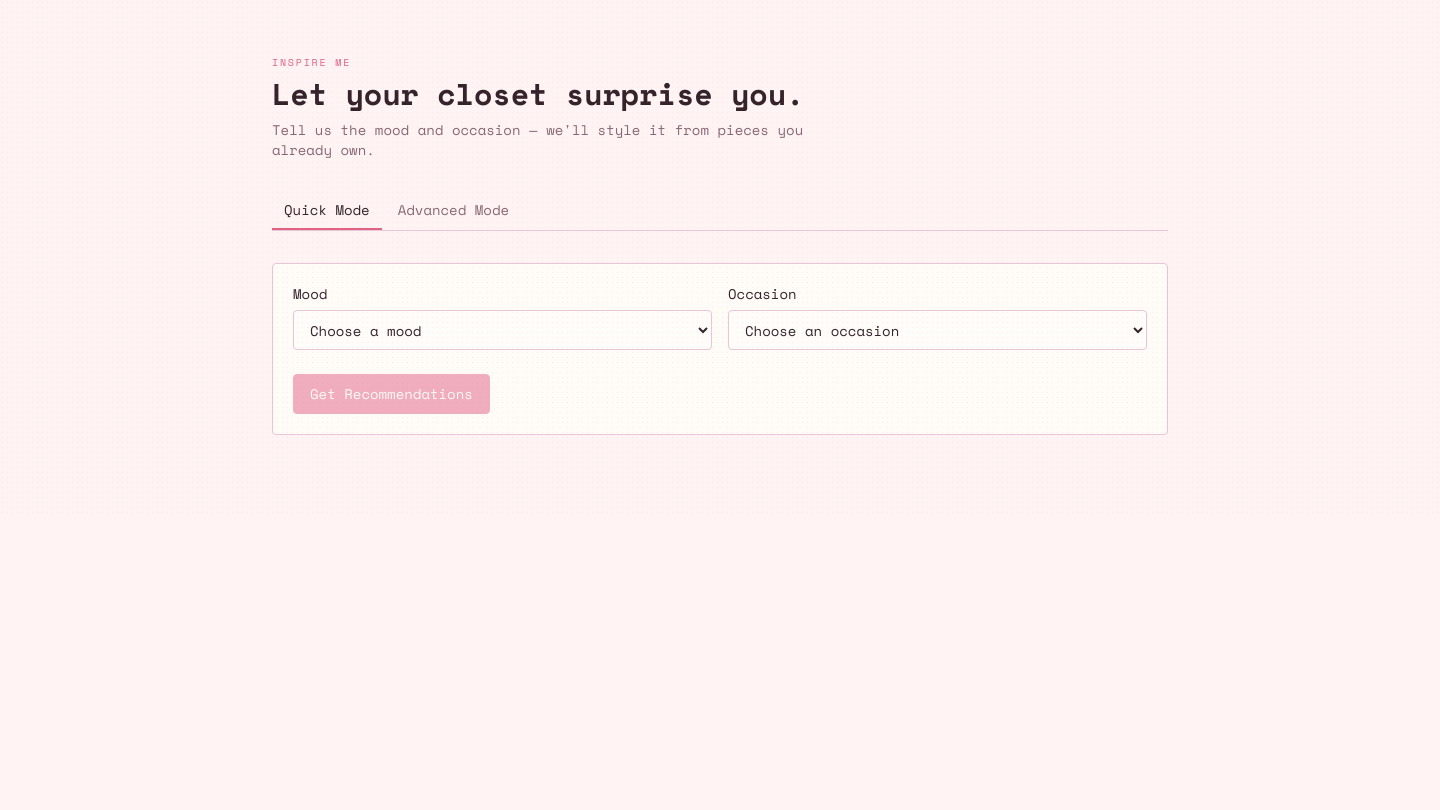
Test: InspireMePage › shows an empty state when no valid outfit can be generated
Select "Cozy" in the dropdown labelled "Mood" at (502, 330), box [293,310,712,350]
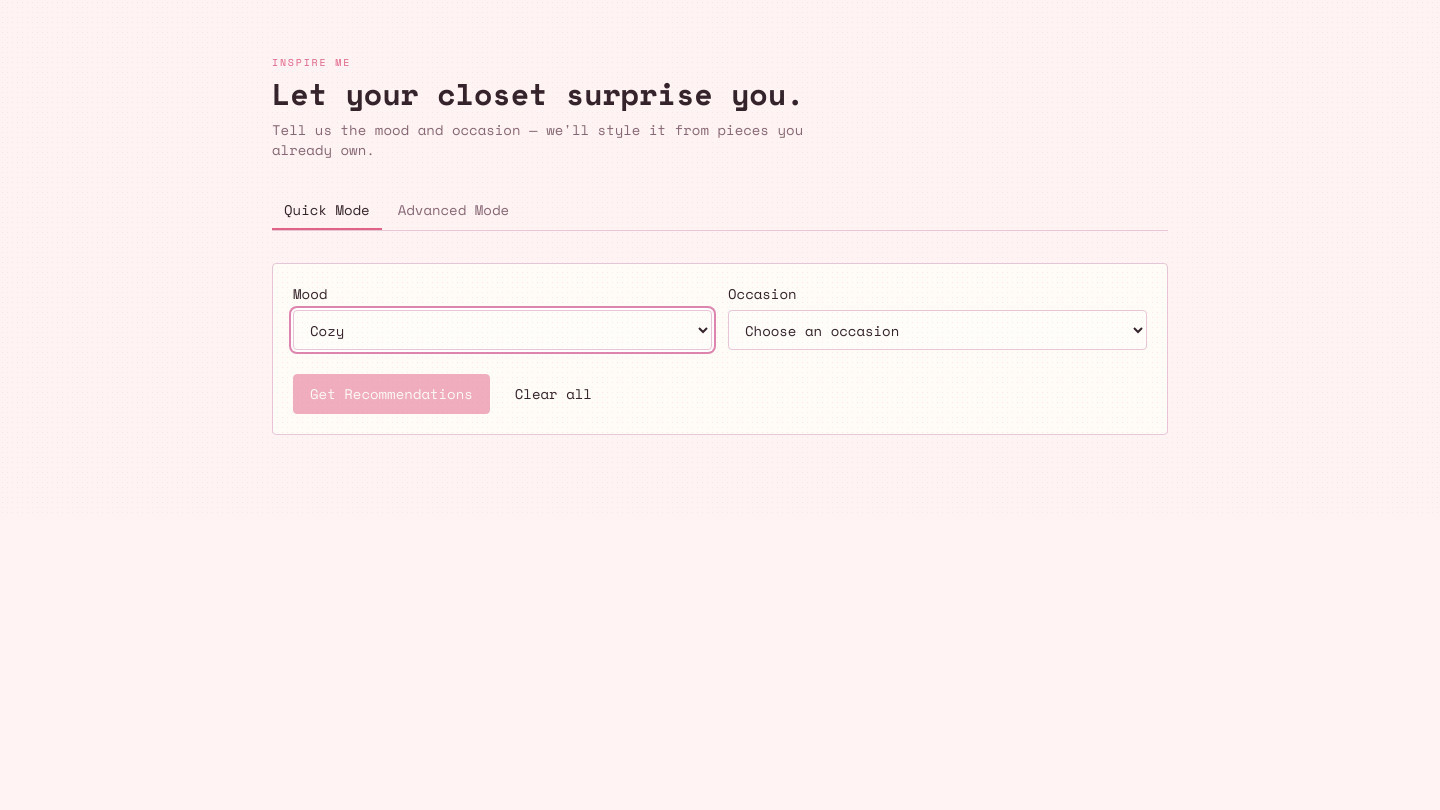
Select "Work" in the dropdown labelled "Occasion" at (938, 330), box [728,310,1147,350]
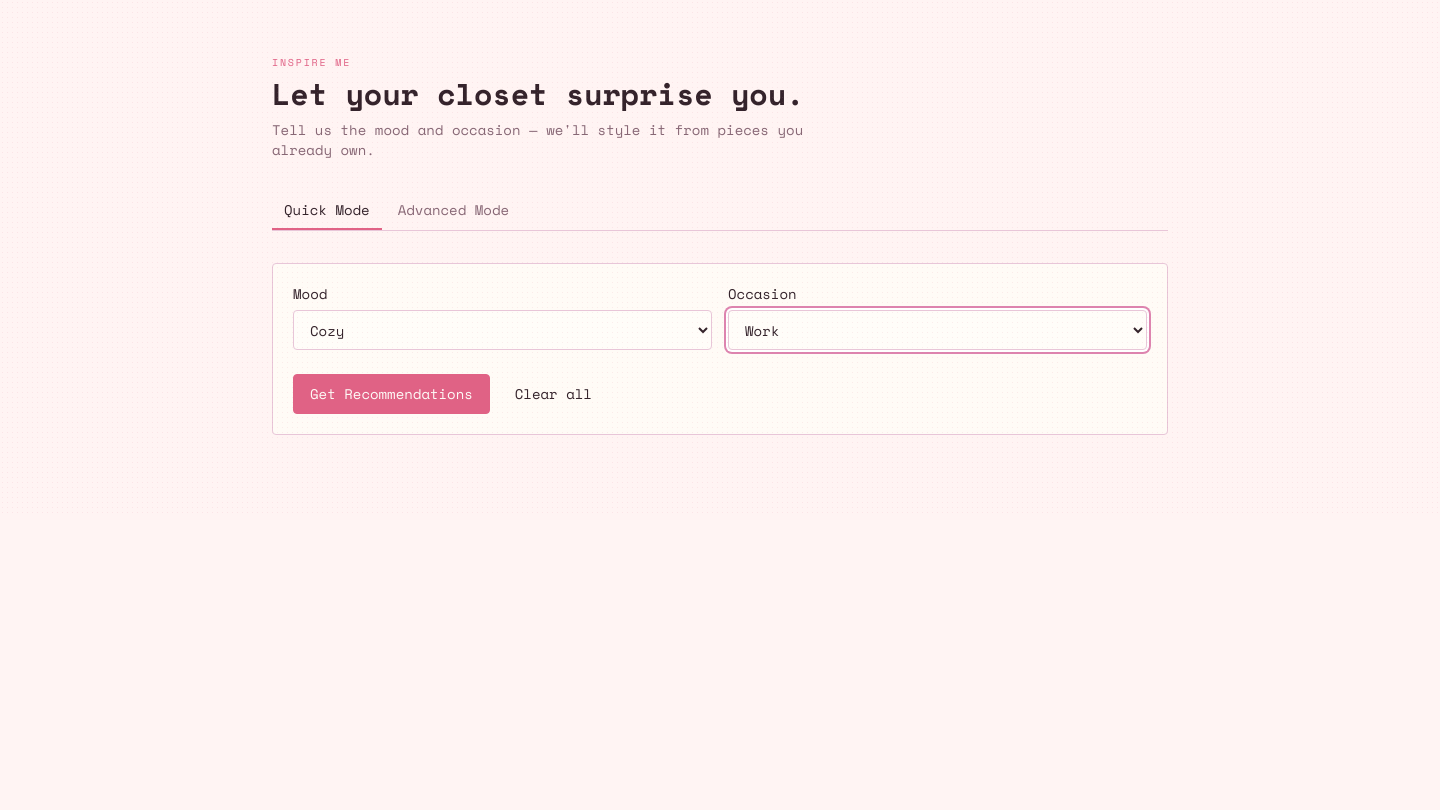
Click the button "Get Recommendations" at (391, 394), box [293,374,490,414]
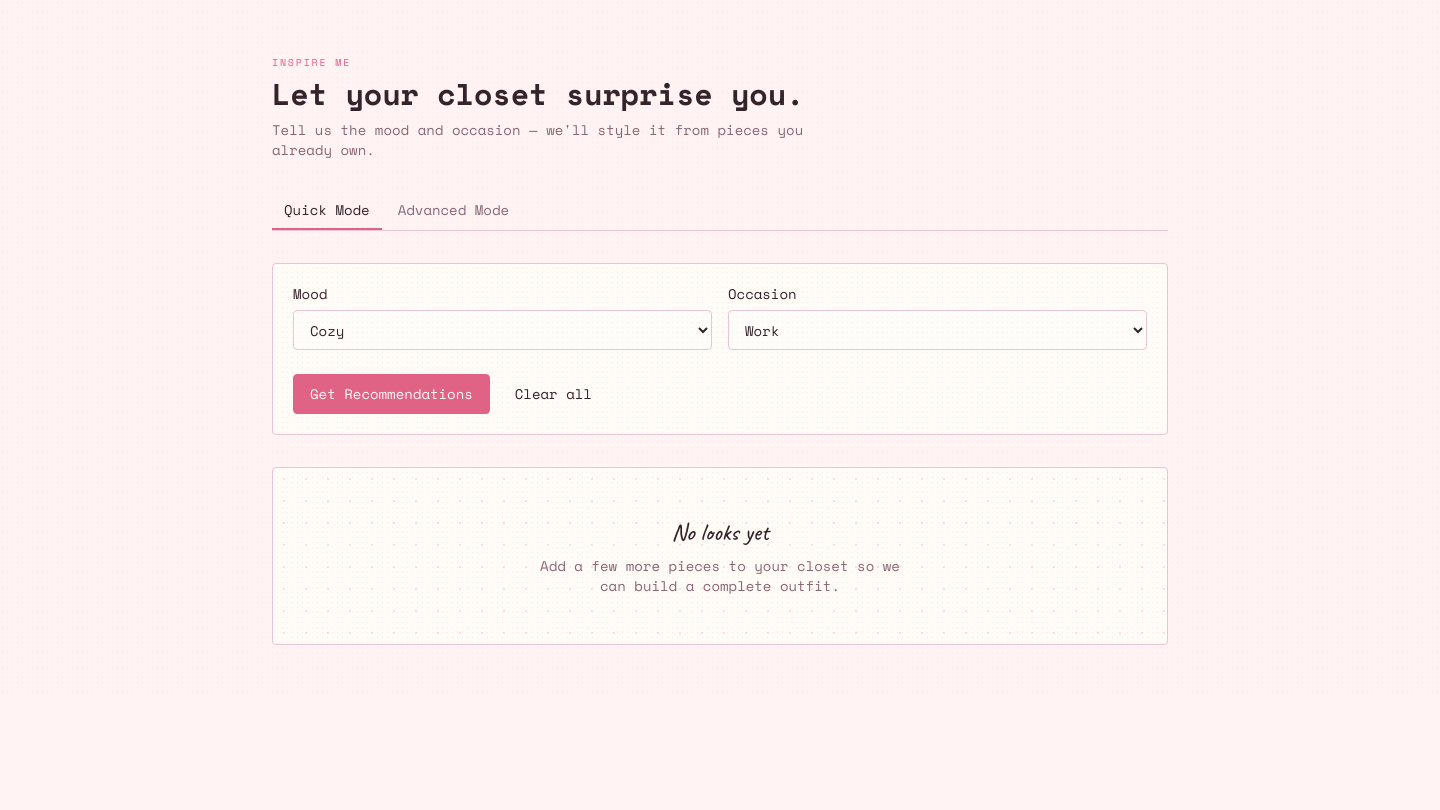
Check: the text "No looks yet" is shown, box [671,516,769,548]
Check: the text "Add a few more pieces to your closet so we can build a complete outfit." is shown, box [528,556,912,596]
